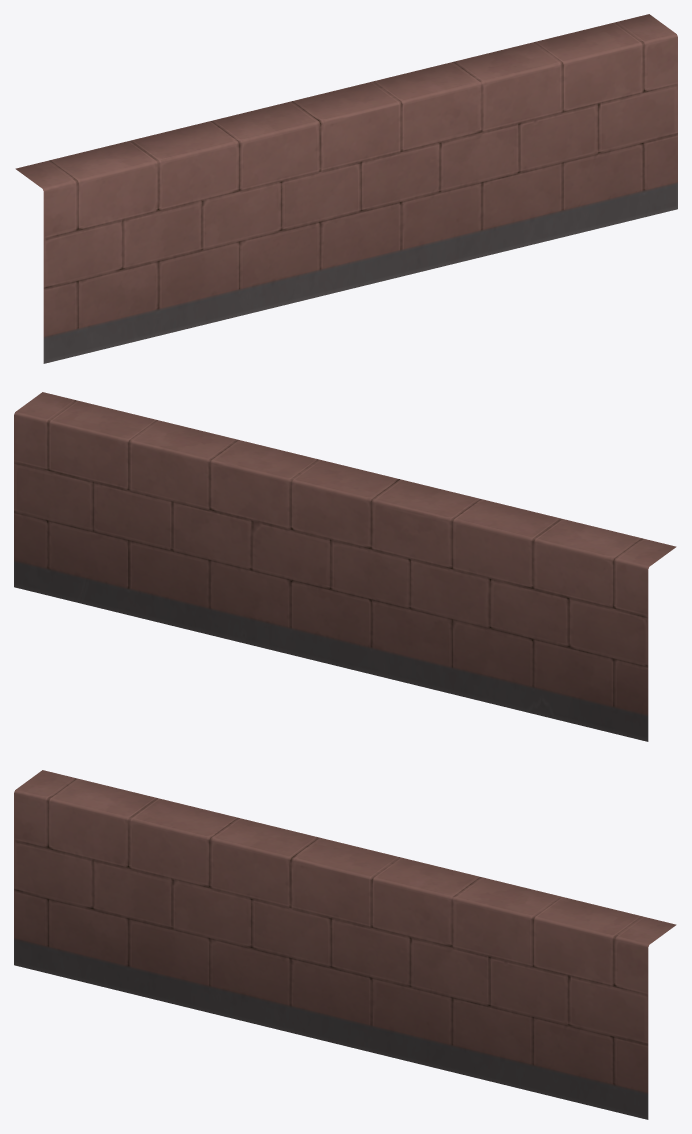
The model's file is SM_Props_Fence_01.glb.
The picture shows the model from 3 angles, top to bottom: view 1: azimuth 30°, elevation 25°; view 2: azimuth 150°, elevation 25°; view 3: azimuth 330°, elevation 25°; orthographic projection.
Visible parts, largest first — view 1: Fence_01; view 2: Fence_01; view 3: Fence_01.
Boxes of the visible parts, x1=… form: Fence_01: x1=15, y1=14, x2=677, y2=363; Fence_01: x1=14, y1=392, x2=676, y2=741; Fence_01: x1=14, y1=770, x2=676, y2=1119.
Size of the model in its own units: 2.5 by 0.6564 by 0.2033.
Materials: 1 (1 with a texture image).
